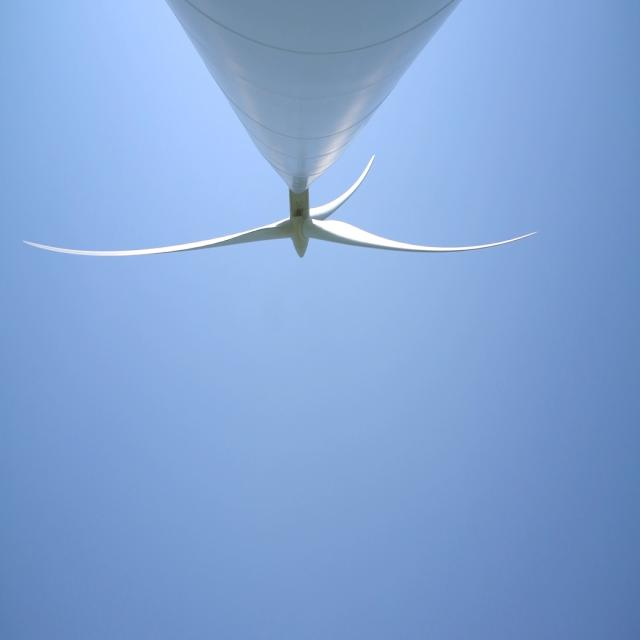blade 1: (12, 220, 272, 292)
blade 2: (331, 224, 588, 256)
blade 3: (338, 154, 392, 214)
